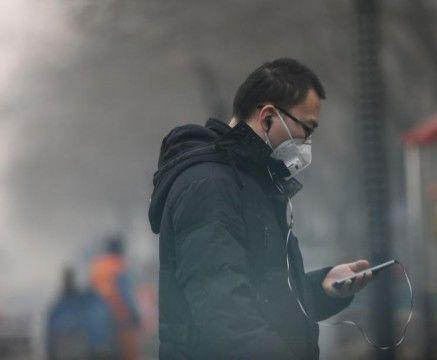person: (147, 54, 402, 360)
